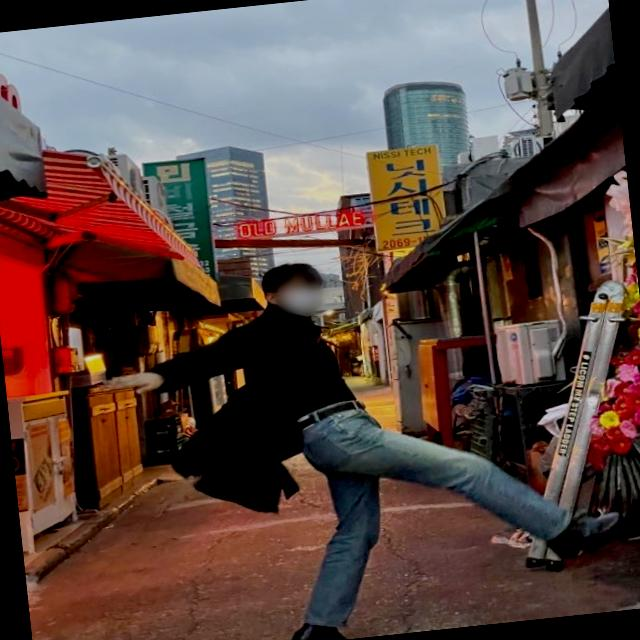coat: (134, 296, 366, 526)
denimpants: (276, 374, 588, 634)
